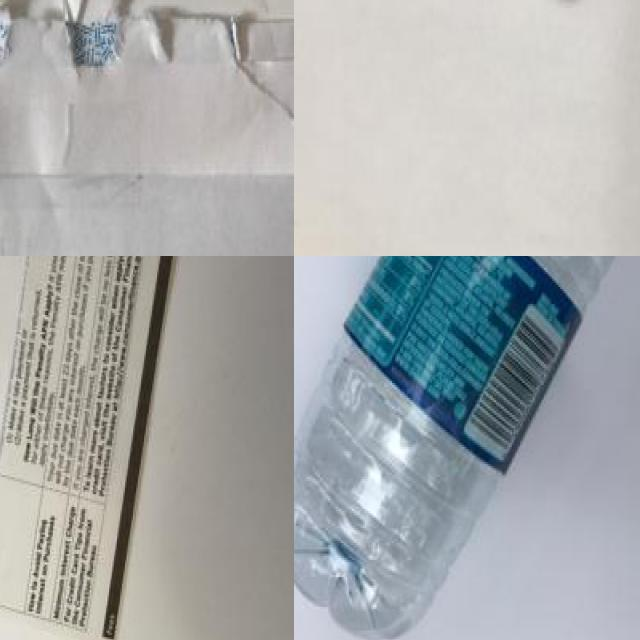compost: (526, 0, 609, 21)
paper: (0, 256, 207, 639), (0, 0, 294, 256)
plastic: (294, 256, 640, 635)
